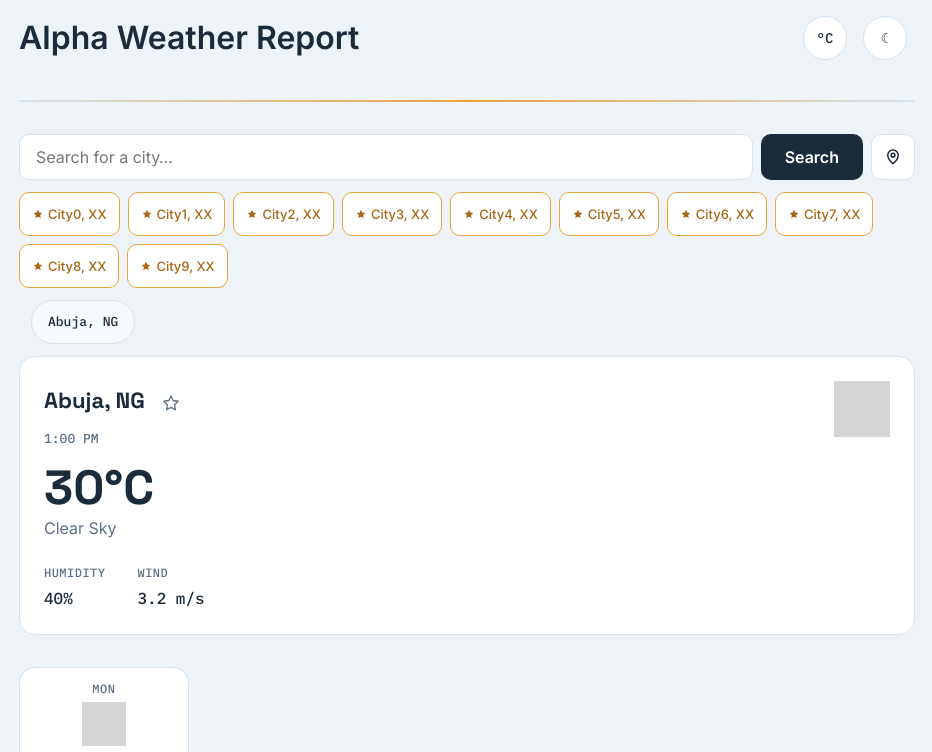
Test: App — favorites-full warning clears on a new search (bugfix) › a stale "Favorites full" warning is dismissed by the next successful search, not just by a star click
The width and height of the screenshot is (932, 752).
Expected: the text "30°C" is shown, top-left (44, 457), bottom-right (154, 518)
Step 1. Type "Overflow" into the field → coordinates (386, 157), box top-left (19, 134), bottom-right (753, 180)
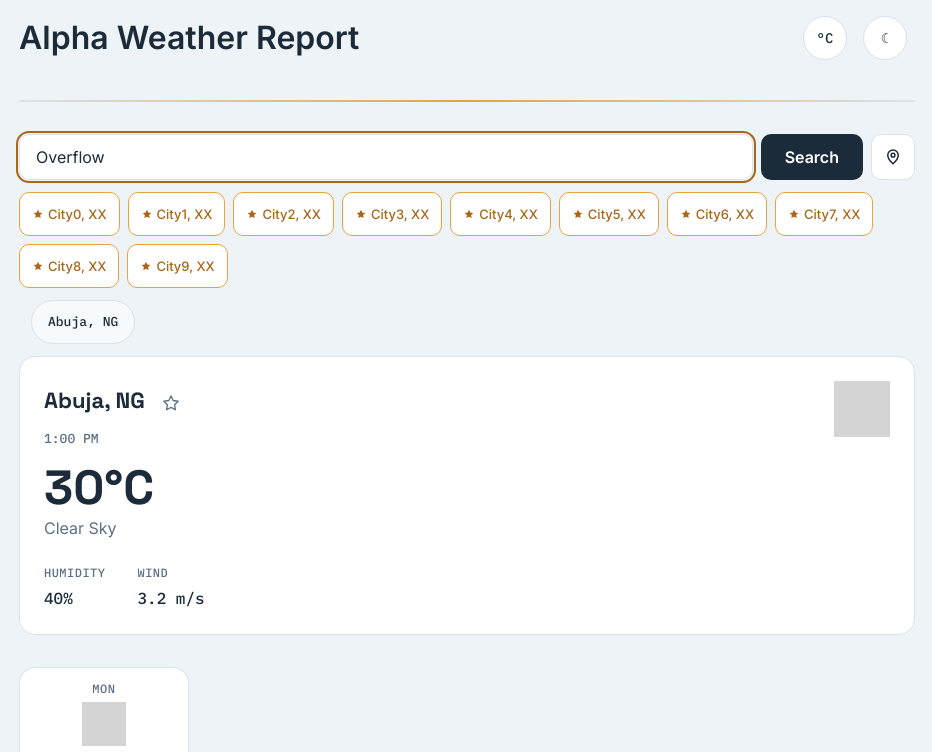
Step 2. Click the button "Search" → coordinates (812, 157), box top-left (761, 134), bottom-right (863, 180)
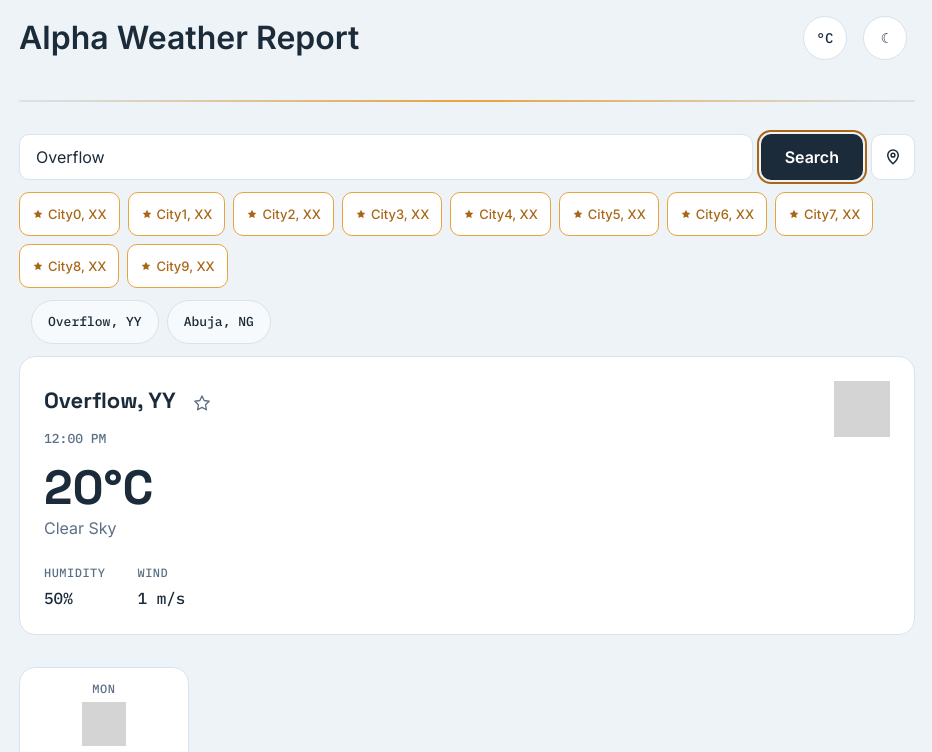
Now the text "20°C" is shown, box top-left (44, 457), bottom-right (154, 518)
Step 3. Click the button named "Add to favorites" → coordinates (202, 403), box top-left (180, 381), bottom-right (224, 425)
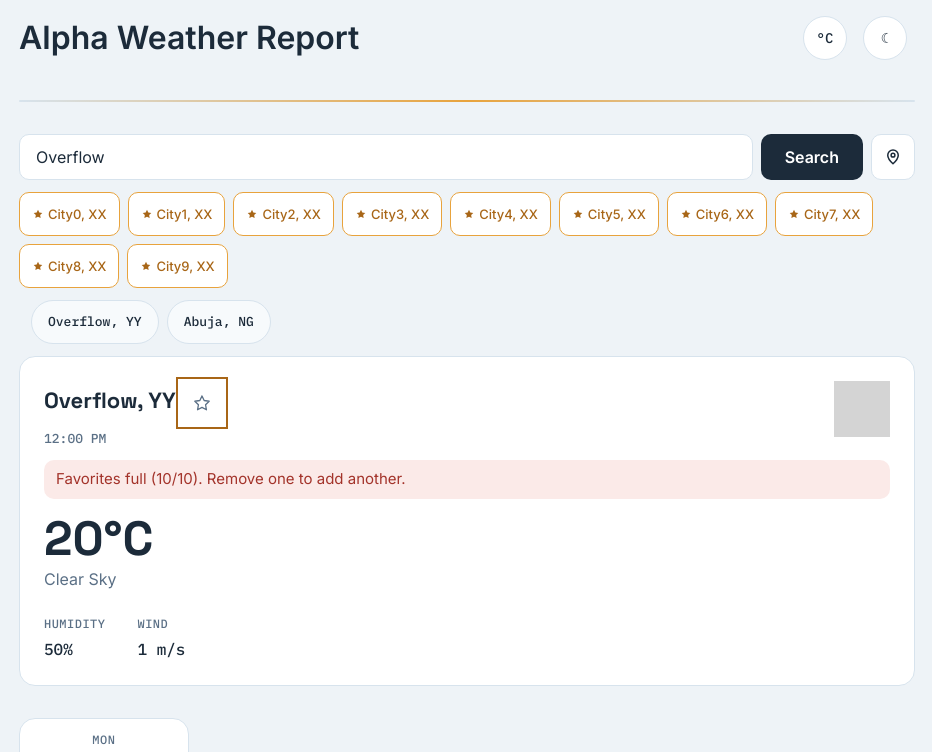
Now the message reads "Favorites full (10/10). Remove one to add another.", box top-left (56, 469), bottom-right (406, 488)
Step 4. Replace the text in the field with "Elsewhere" → coordinates (386, 157), box top-left (19, 134), bottom-right (753, 180)
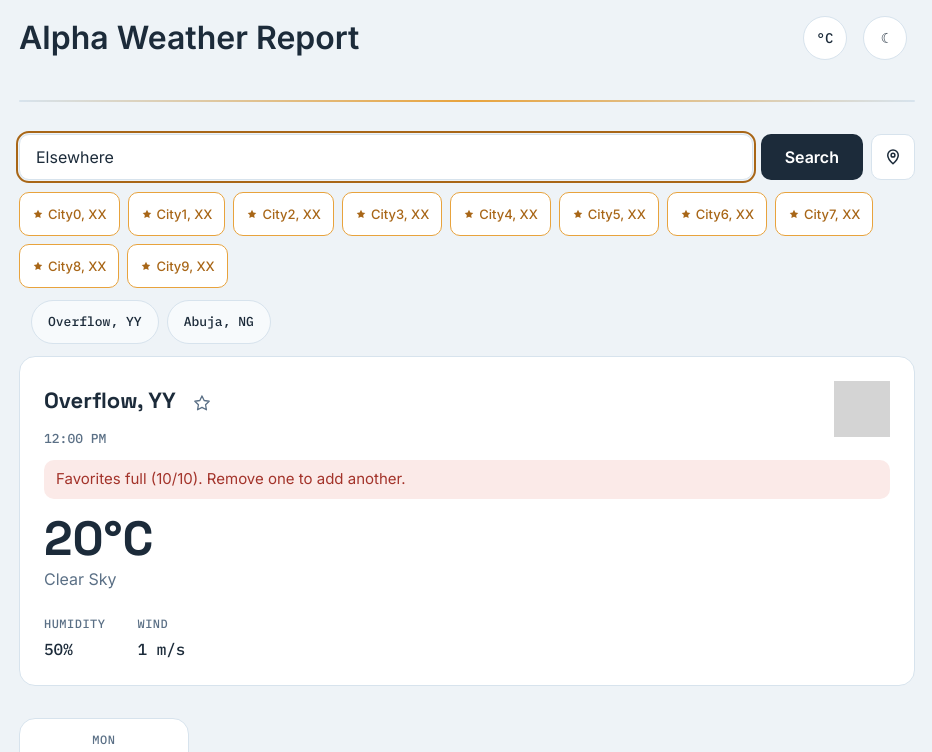
Step 5. Click the button "Search" → coordinates (812, 157), box top-left (761, 134), bottom-right (863, 180)
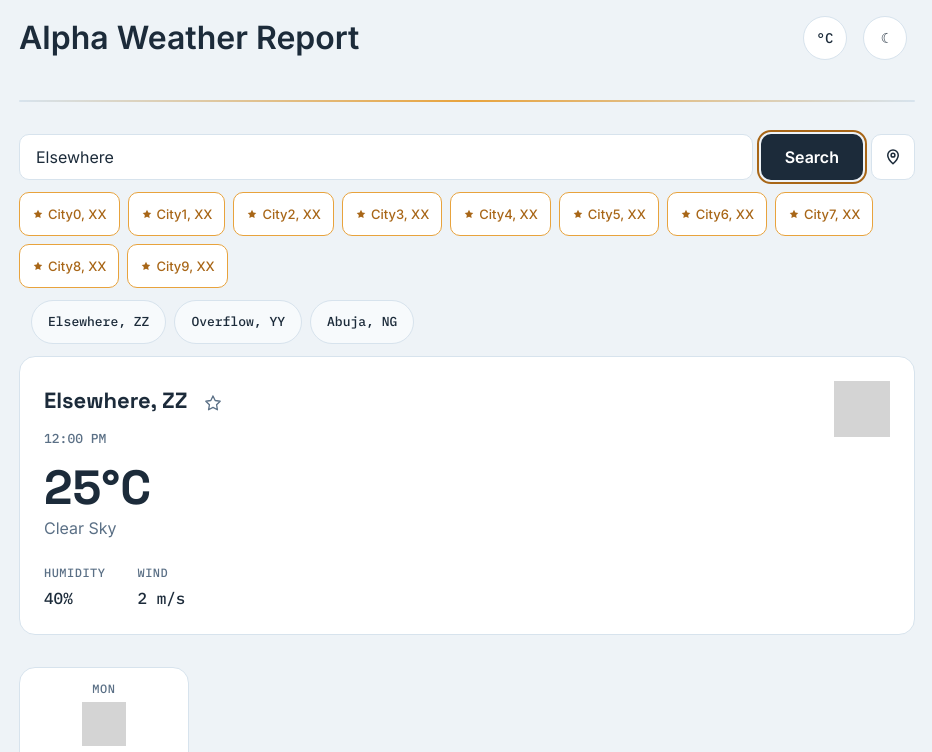
Now the text "25°C" is shown, box top-left (44, 457), bottom-right (151, 518)
Now the message "Favorites full (10/10). Remove one to add another." is gone
